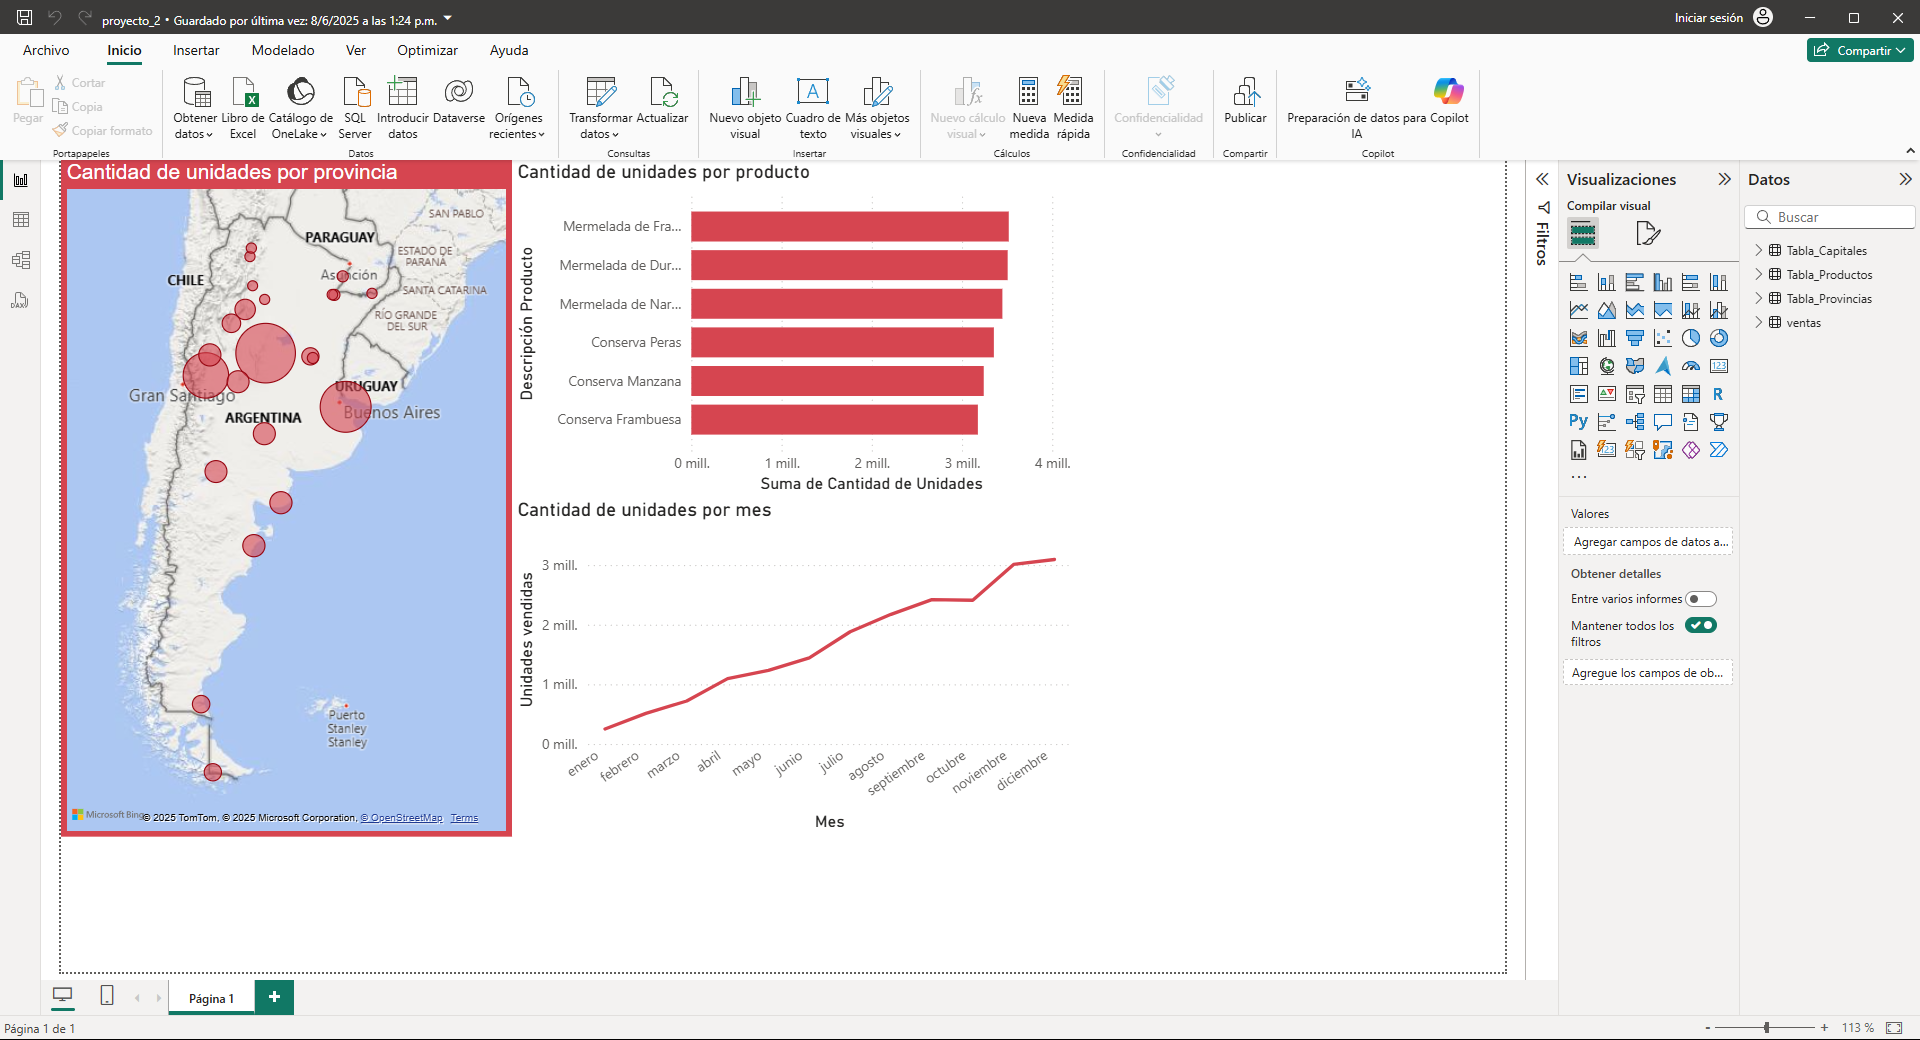

What the dashboard file says about the page in this screenshot:
{"tool":"powerbi","page":{"name":"Página 1","canvas":[1280,720],"ordinal":0},"visuals":[{"type":"map","title":"Cantidad de unidades por provincia","fields":{"Category":["Tabla_Capitales.Capital"],"Y":["Avg(Tabla_Capitales.Latitud)"],"X":["Avg(Tabla_Capitales.Longitud)"],"Size":["Sum(ventas.Cantidad de Unidades)"]},"box":[0,0,400,600],"z":0},{"type":"barChart","title":"Cantidad de unidades por producto","fields":{"Category":["Tabla_Productos.Descripción Producto"],"Y":["Sum(ventas.Cantidad de Unidades)"]},"box":[399.8,0,500,300],"z":1000},{"type":"lineChart","title":"Cantidad de unidades por mes","fields":{"Category":["ventas.Mes.Variación.Jerarquía de fechas.Año","ventas.Mes.Variación.Jerarquía de fechas.Trimestre","ventas.Mes.Variación.Jerarquía de fechas.Mes","ventas.Mes.Variación.Jerarquía de fechas.Día"],"Y":["Sum(ventas.Cantidad de Unidades)"]},"box":[399.8,300.1,500.5,300.1],"z":2000}]}

Visuals, with their boxes on the page's 1280x720 design canvas (x1, y1, x2, y2). These are canvas units, not pixel positions in the 1920x1040 screenshot, which may show the page scaled, cropped or inside an application window:
"Cantidad de unidades por provincia" map: (0, 0, 400, 600)
"Cantidad de unidades por producto" barChart: (400, 0, 900, 300)
"Cantidad de unidades por mes" lineChart: (400, 300, 900, 600)
